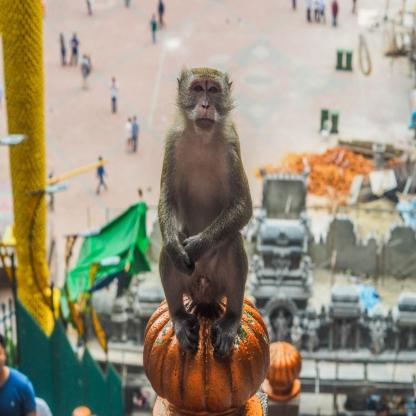monkey: (156, 65, 254, 367)
